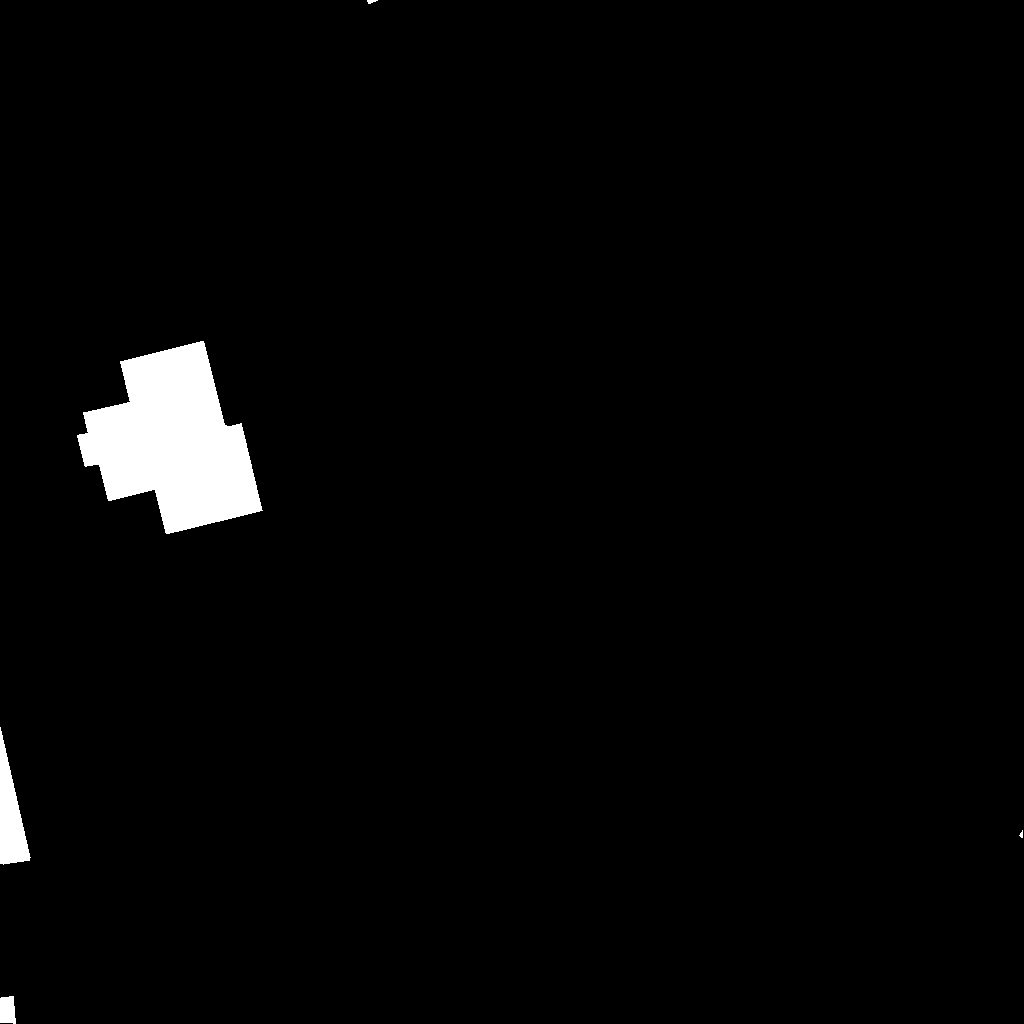building: (77, 341, 263, 535), (0, 725, 31, 865), (0, 996, 17, 1024), (367, 0, 380, 5), (1019, 830, 1024, 839)
